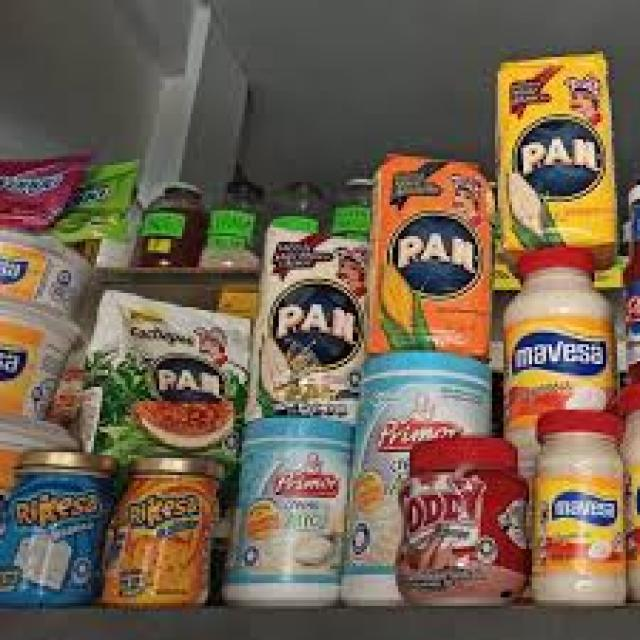Arina_pan: (80, 287, 261, 481), (498, 59, 621, 249), (376, 159, 491, 355), (262, 224, 369, 419)
Margarina: (505, 250, 624, 446), (535, 409, 635, 608)
Toddy: (398, 441, 531, 605)
